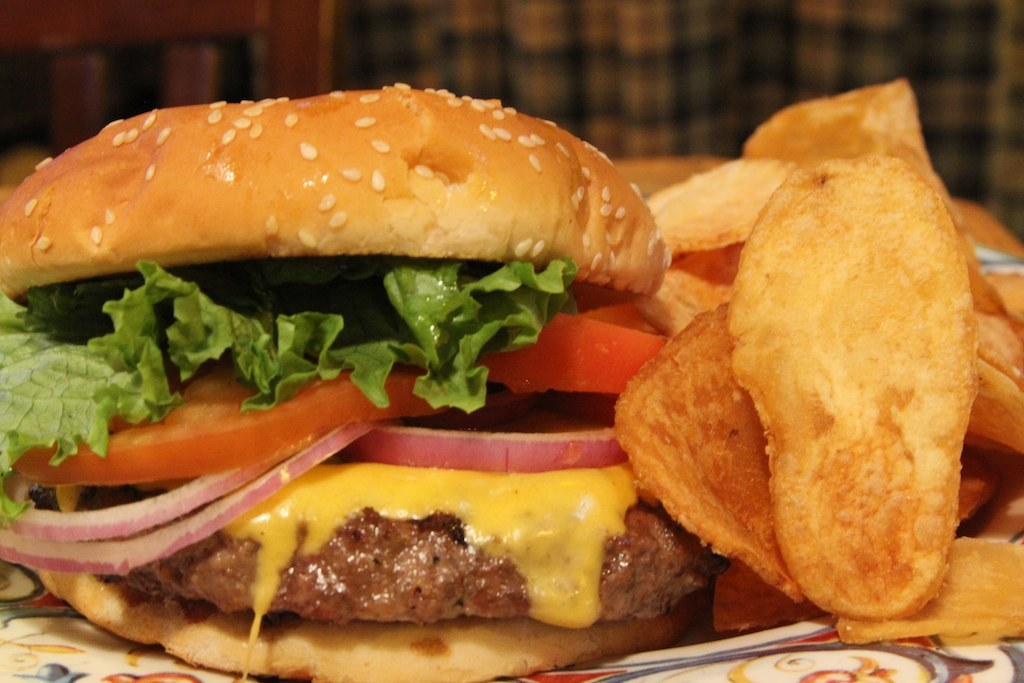Hamburger: (0, 83, 707, 682)
